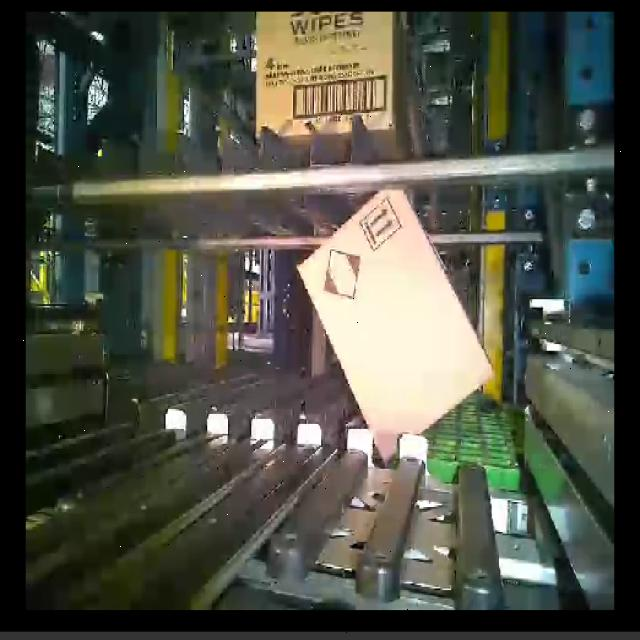box: (281, 169, 514, 468)
